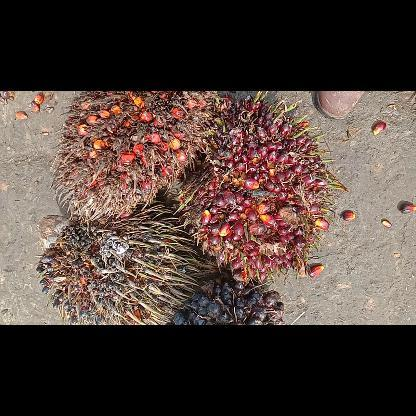TBS abnormal: (37, 202, 199, 324)
TBS masak: (177, 91, 339, 281)
TBS mentah: (170, 278, 284, 324)
Terlalu masak: (52, 90, 214, 218)
